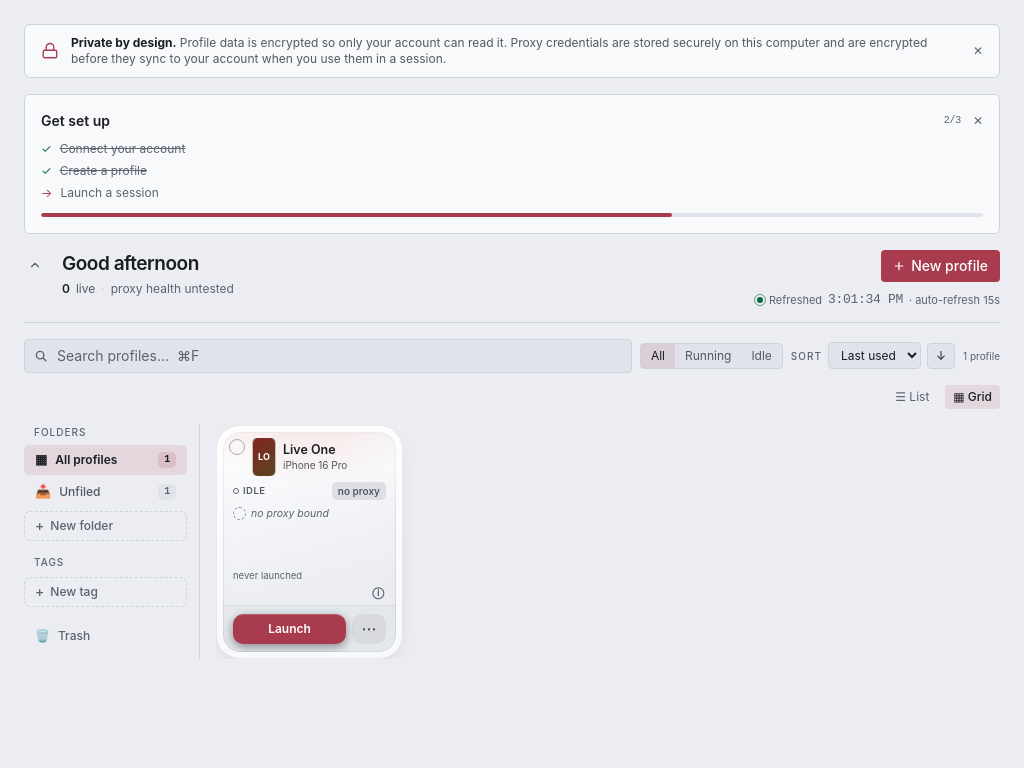
TrashPanel load truth › lets the newest overlapping load own the recycle-bin snapshot
Check: the text "Live One" is shown, box [283, 442, 336, 456]
Click the button "🗑️ Trash": (106, 636) [24, 620, 187, 650]
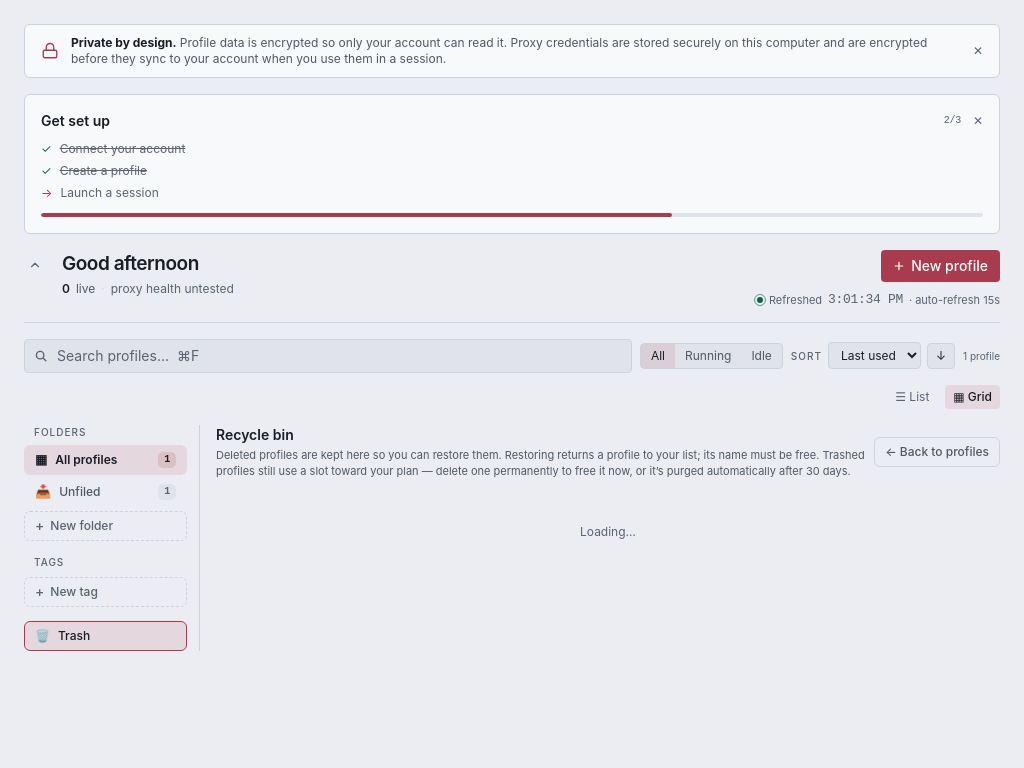
Click the button "🗑️ Trash": (106, 636) [24, 620, 187, 650]
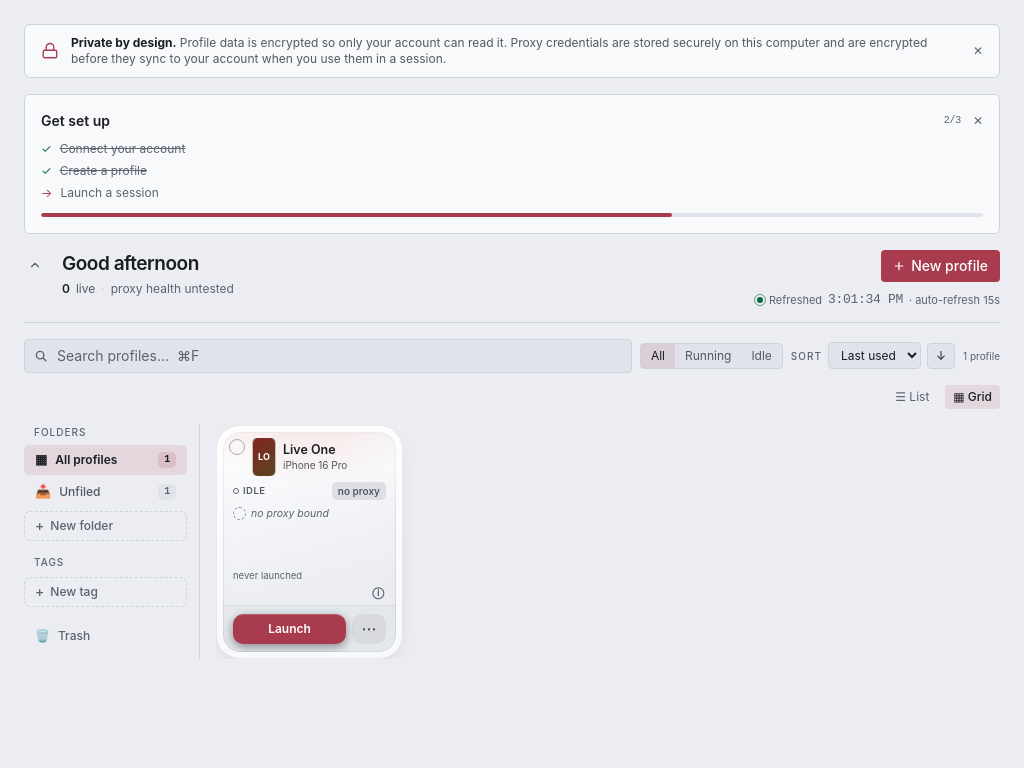
Click the button "🗑️ Trash": (106, 636) [24, 620, 187, 650]
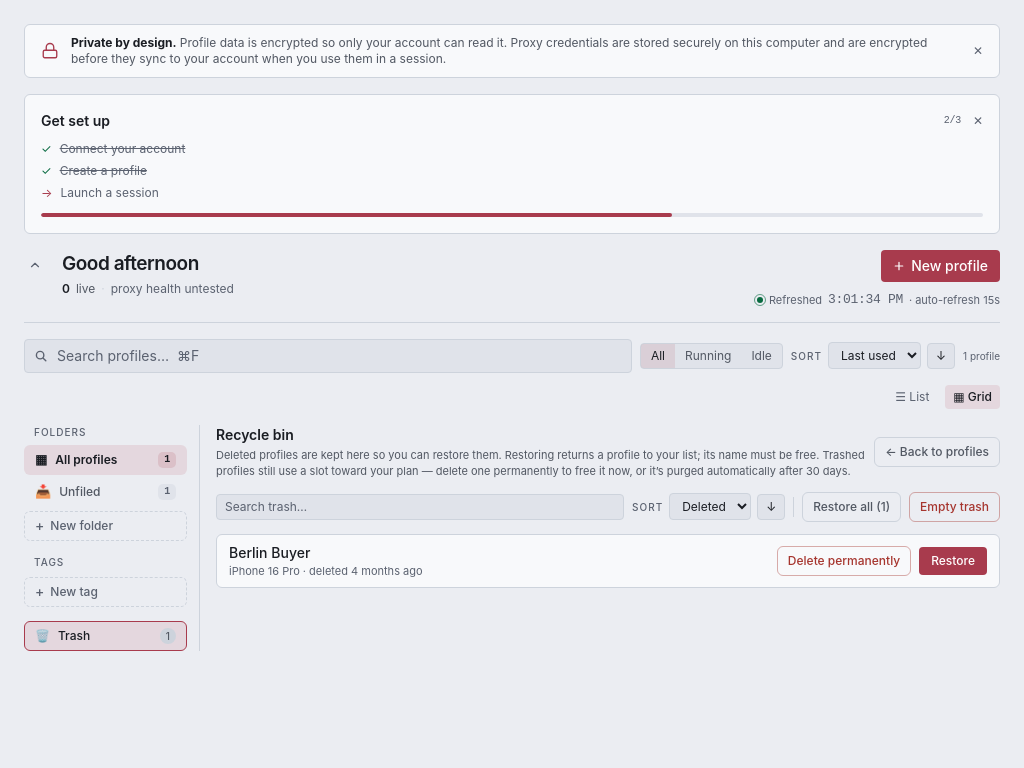
Check: the text "Berlin Buyer" is shown, box [229, 544, 310, 560]
